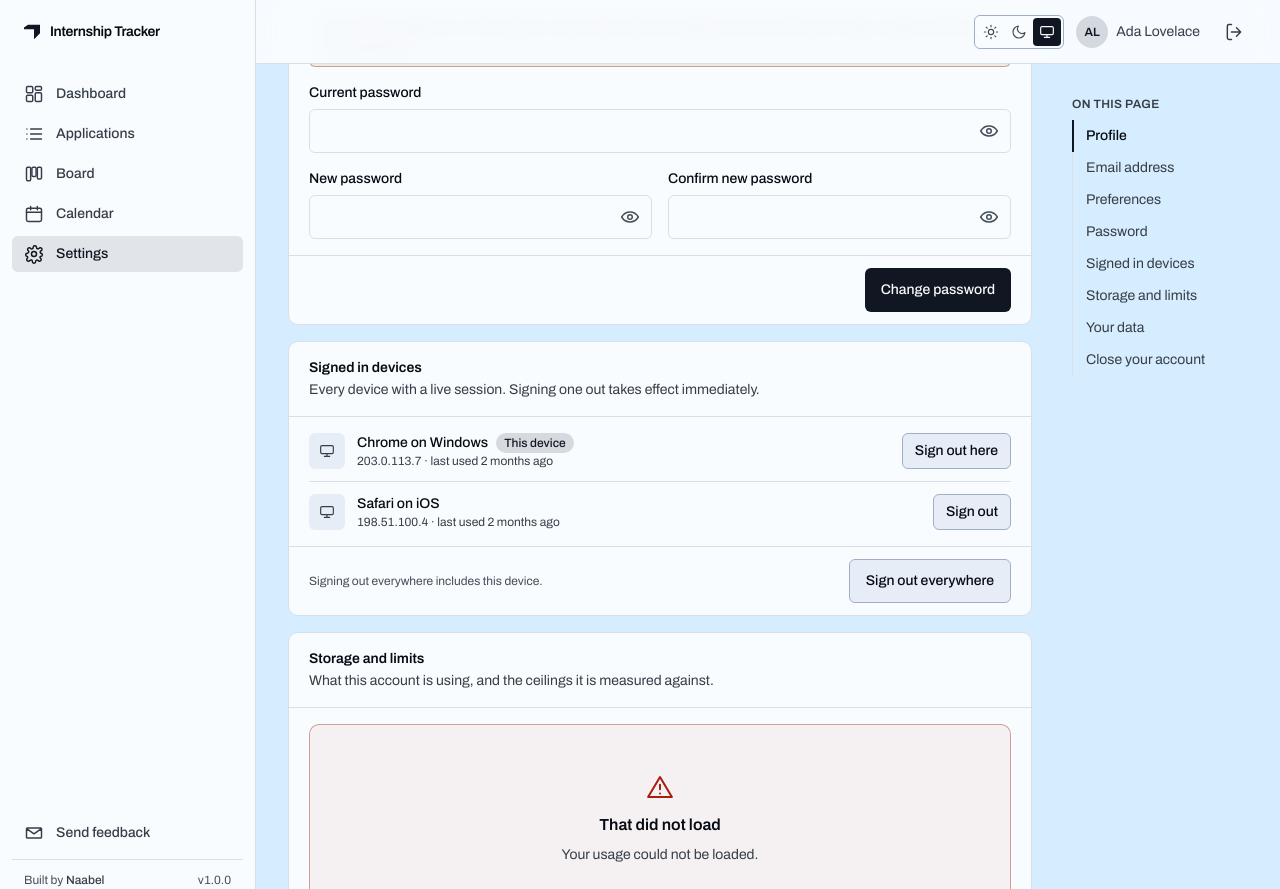
Test: revoking the current session › clears client auth state and redirects to sign in
(page scrolled)
Click the button with aria-label "Sign out this device" at (956, 451), box [902,433,1011,469]
(page scrolled)
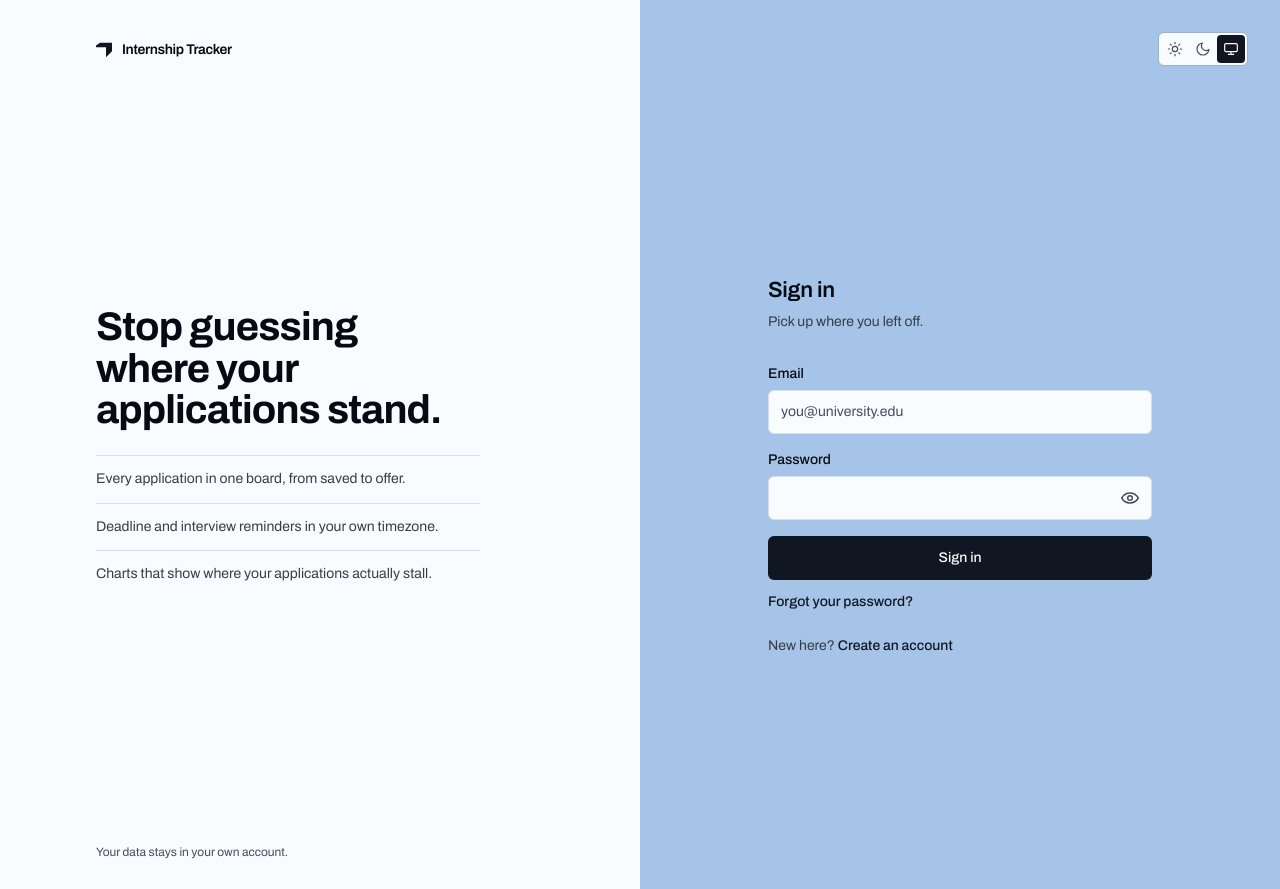
Now the heading "Sign in" is shown, box [768,278,835,302]
